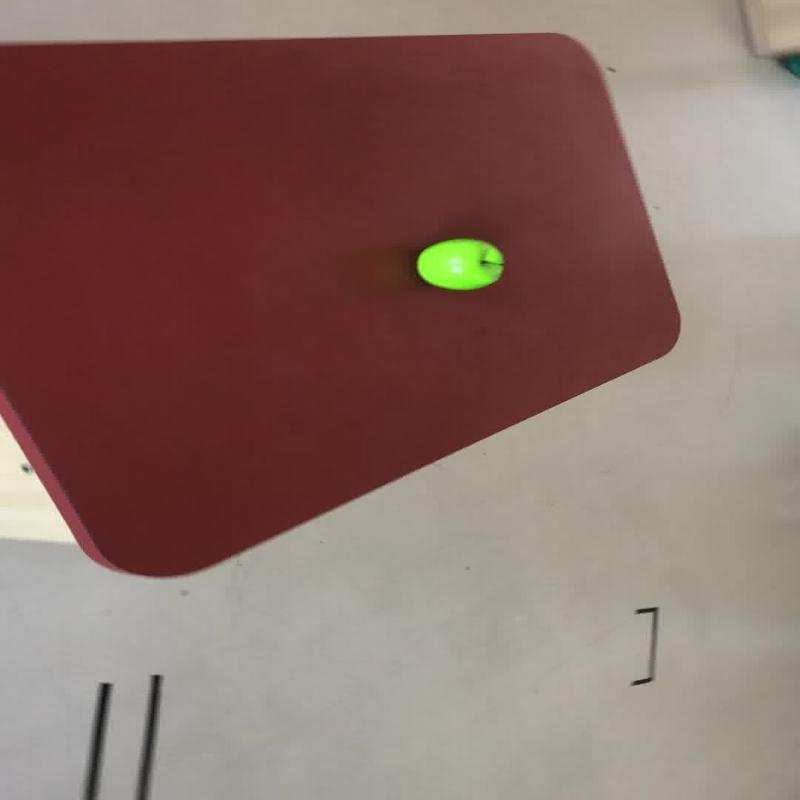apple: (414, 237, 504, 290)
